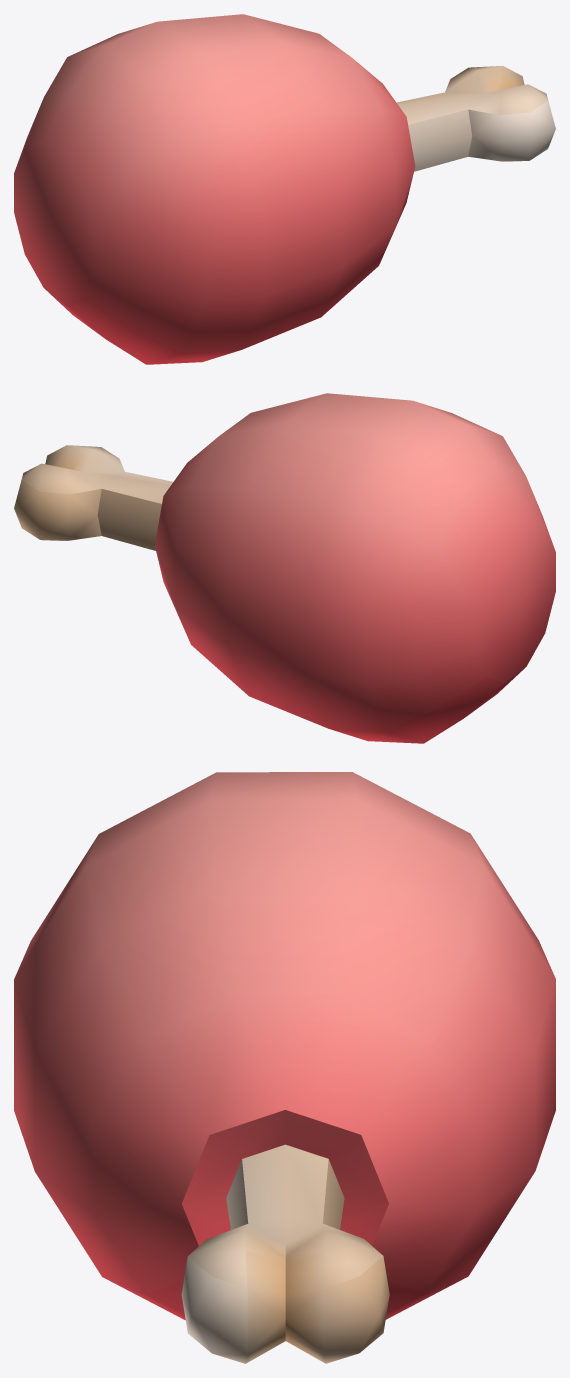
File: Raw ham.glb
3 views of the same model, one above another, from view 1: azimuth 30°, elevation 25°; view 2: azimuth 150°, elevation 25°; view 3: azimuth 270°, elevation 25° (orthographic). The views are drawn at different scales.
Visible parts, largest first — view 1: food_ingredient_ham; view 2: food_ingredient_ham; view 3: food_ingredient_ham.
Part boxes in pixels (x1,y1,x2,y2): food_ingredient_ham: (14,14,555,364); food_ingredient_ham: (14,393,555,743); food_ingredient_ham: (14,772,555,1363).
Bounding box in the file's own units: 1.39 × 0.83 × 0.83.
Materials: 1 (1 with a texture image).
